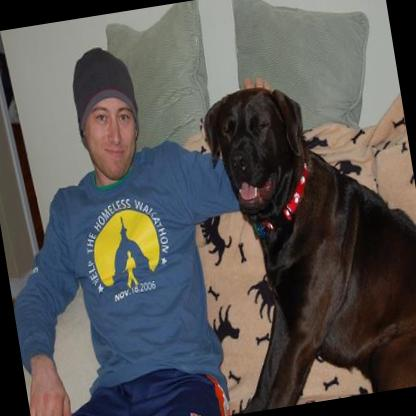Rottweiler: (191, 61, 416, 411)
